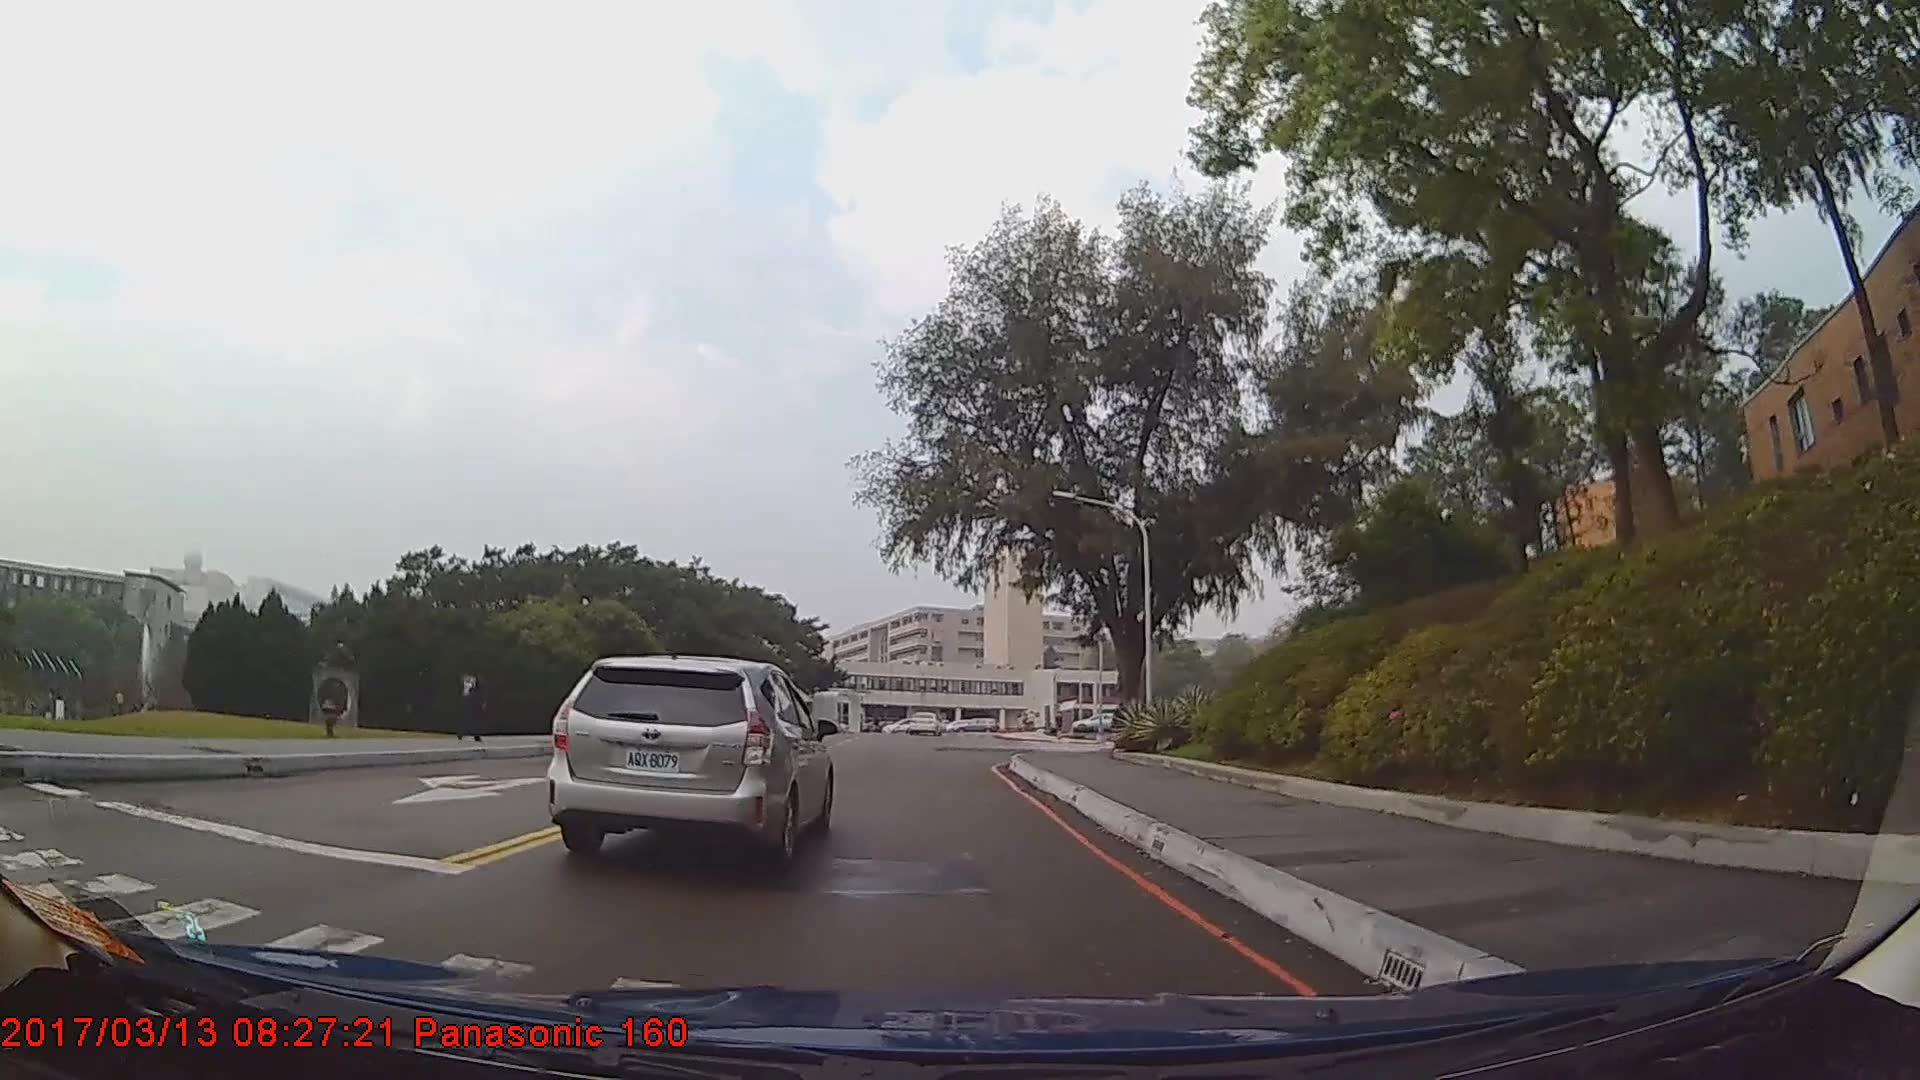pedestrian: (453, 654, 495, 746)
vehicle: (547, 652, 835, 867), (907, 707, 943, 734)
